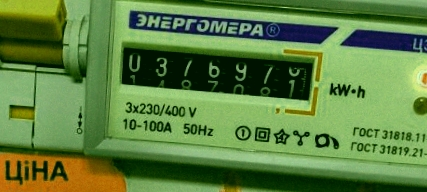0: (125, 50, 142, 73)
1: (285, 77, 295, 99)
3: (153, 55, 168, 77)
6: (205, 55, 222, 79)
7: (179, 54, 195, 78), (259, 60, 274, 84)
9: (232, 59, 247, 82)
screen: (107, 32, 326, 119)
